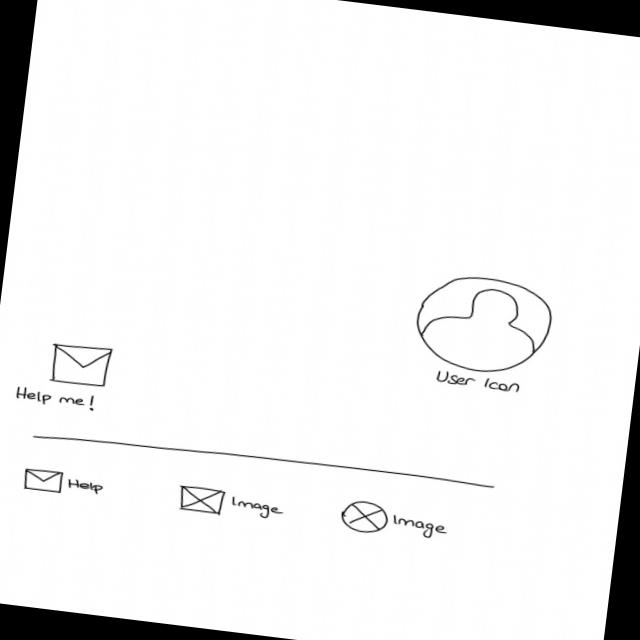image: (337, 498, 390, 536), (175, 482, 228, 518)
label: (428, 368, 523, 397), (12, 384, 102, 414), (388, 512, 451, 542), (228, 494, 286, 522), (66, 476, 106, 496)
